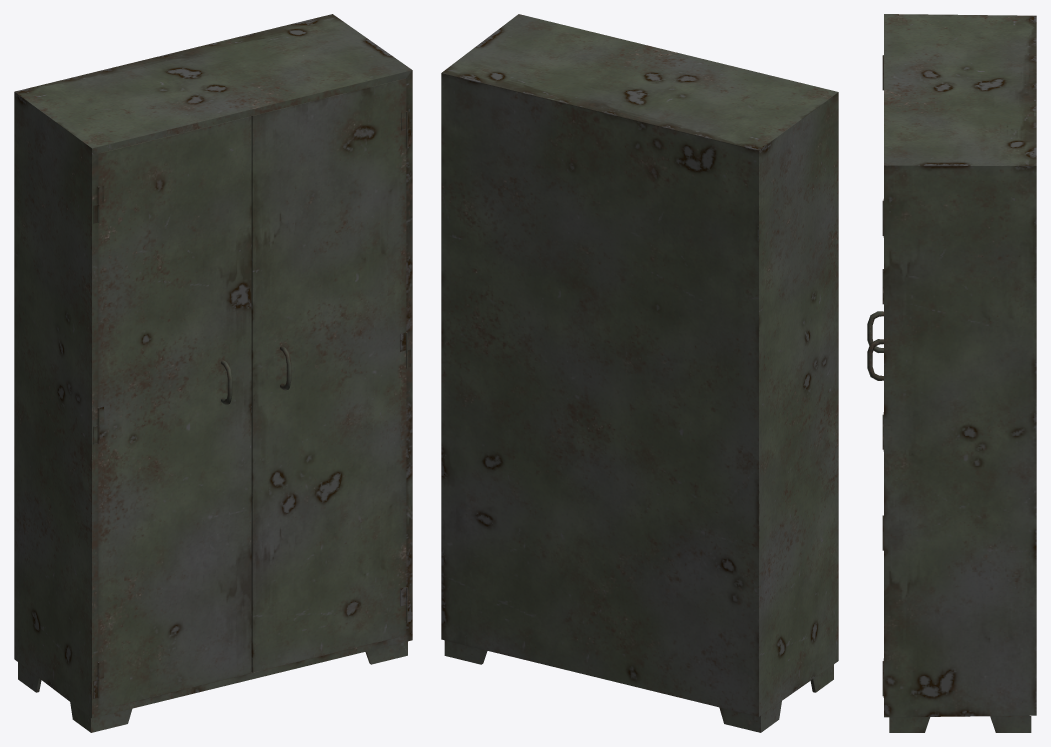
Rendered from Armario1.fbx.
3 renders of one model, left to right at view 1: azimuth 30°, elevation 25°; view 2: azimuth 150°, elevation 25°; view 3: azimuth 270°, elevation 25°, orthographic. The views are drawn at different scales.
Visible parts, largest first — view 1: ArmarioPuertaD, ArmarioPuertaI, Armario; view 2: Armario; view 3: Armario, ArmarioPuertaD, ArmarioPuertaI.
Part boxes in pixels (x1,y1,x2,y2): ArmarioPuertaD: (251, 78, 407, 672); ArmarioPuertaI: (97, 116, 251, 709); Armario: (14, 14, 412, 732); Armario: (441, 14, 838, 732); Armario: (882, 14, 1036, 732); ArmarioPuertaD: (867, 199, 883, 678); ArmarioPuertaI: (867, 55, 883, 535).
Bounding box in the file's own units: 152 × 265 × 71.57.
1 material, 1 textured.
